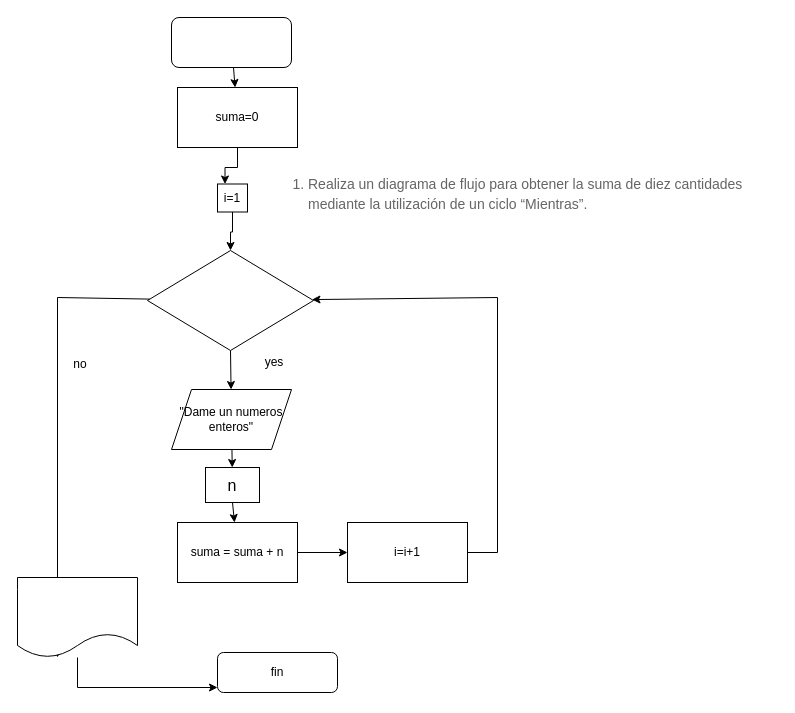
Some shapes in this 795 by 713 pixel diagram are drawn without their labels. Here are the shapes that lost their labels. From the top down, the centre of each, then its label:
point (231, 42): inicio
point (230, 300): i=<10
point (77, 617): "la suma de los numeros dados es =" m
